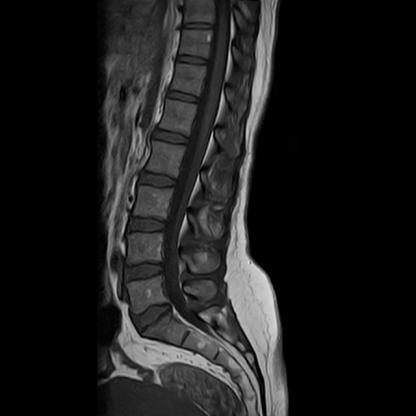Disc Bulgerotation: (131, 303, 173, 329), (125, 260, 163, 284)
